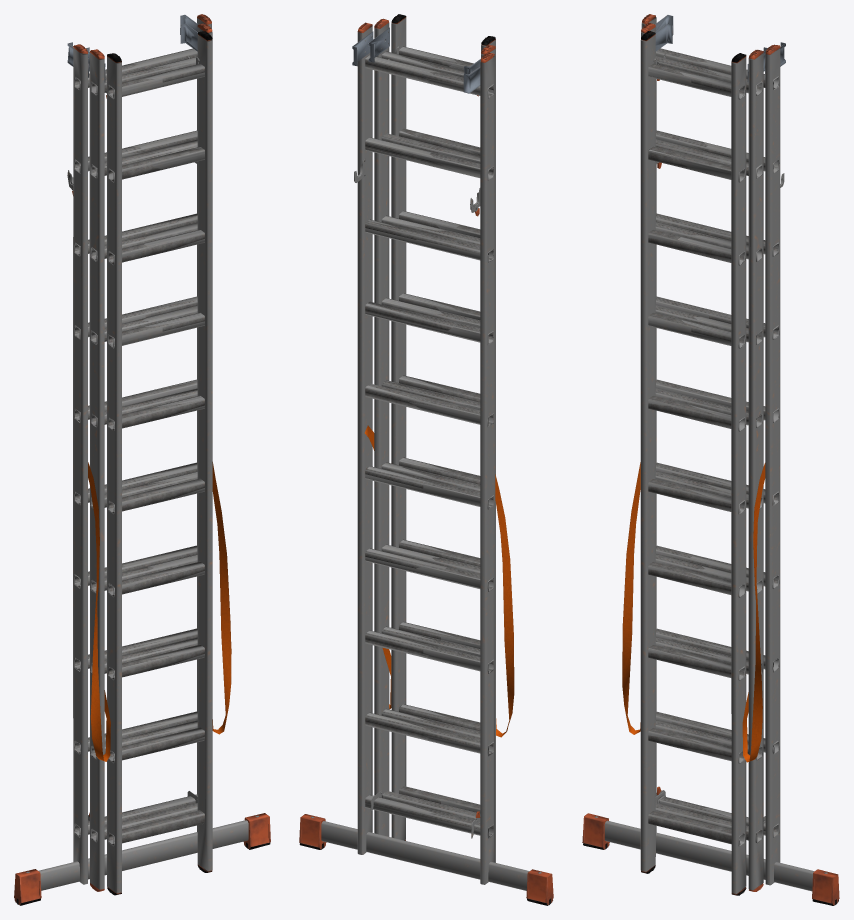
Rendered from ladder_sectioned_01.glb.
3 views of the same model, side by side, from view 1: azimuth 30°, elevation 25°; view 2: azimuth 150°, elevation 25°; view 3: azimuth 330°, elevation 25° (orthographic).
Visible parts, largest first — view 1: ladder_section_03, ladder_section_01, ladder_section_02, ladder_ribbon; view 2: ladder_section_01, ladder_section_02, ladder_section_03, ladder_ribbon; view 3: ladder_section_03, ladder_section_01, ladder_section_02, ladder_ribbon.
Part boxes in pixels (<box>): ladder_section_03: <box>105,31,212,895</box>; ladder_section_01: <box>14,14,270,905</box>; ladder_section_02: <box>86,23,212,891</box>; ladder_ribbon: <box>88,462,231,761</box>; ladder_section_01: <box>299,22,553,905</box>; ladder_section_02: <box>368,18,495,862</box>; ladder_section_03: <box>388,14,495,840</box>; ladder_ribbon: <box>364,425,514,737</box>; ladder_section_03: <box>640,31,746,895</box>; ladder_section_01: <box>582,14,839,905</box>; ladder_section_02: <box>641,23,767,891</box>; ladder_ribbon: <box>622,462,765,762</box>.
Size of the model in its own units: 0.6615 by 2.13 by 0.1776.
1 material, 1 textured.
